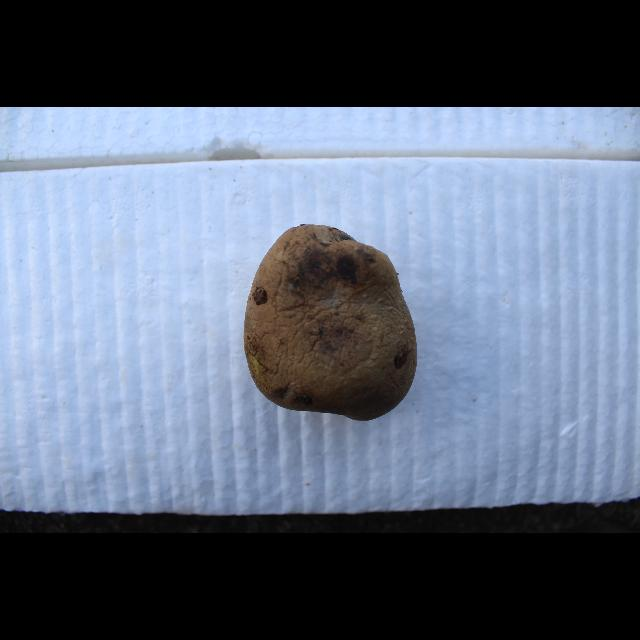Diseased-fungal potato: (240, 222, 422, 420)
